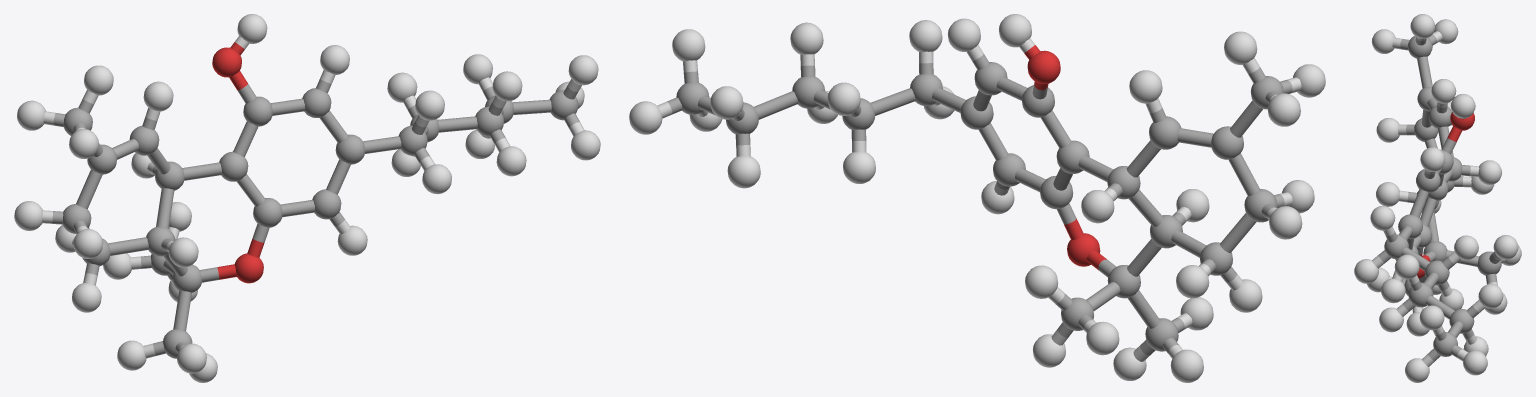
Rendered from thc-bas.glb.
3 views of the same model, side by side, from view 1: azimuth 30°, elevation 25°; view 2: azimuth 150°, elevation 25°; view 3: azimuth 270°, elevation 25° (orthographic). The views are drawn at different scales.
Visible parts, largest first — view 1: thc-bas; view 2: thc-bas; view 3: thc-bas.
Boxes of the visible parts, box(x1,y1,x2,y2) form: thc-bas: box(14, 14, 600, 382); thc-bas: box(629, 14, 1325, 382); thc-bas: box(1354, 14, 1521, 382).
Bounding box in the file's own units: 15.64 × 8.65 × 4.71.
